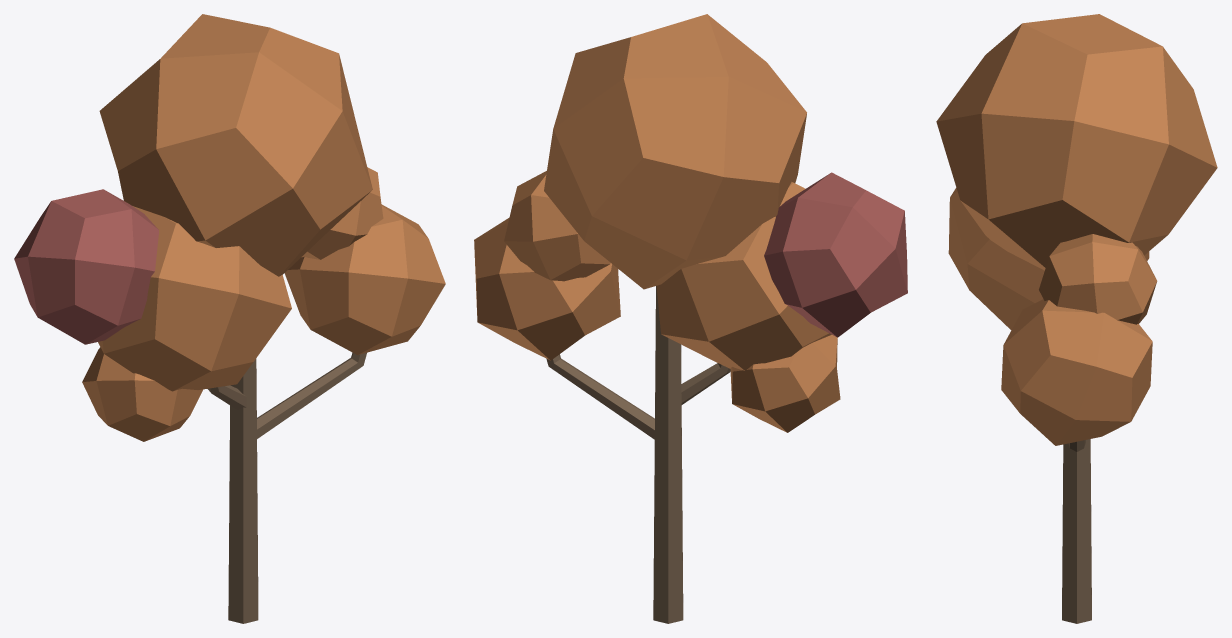
File: Tree_01.fbx
3 renders of one model, left to right at view 1: azimuth 30°, elevation 25°; view 2: azimuth 150°, elevation 25°; view 3: azimuth 270°, elevation 25°, orthographic.
Visible parts, largest first — view 1: Tree_01; view 2: Tree_01; view 3: Tree_01.
Boxes of the visible parts, left/top/right/bottom form: Tree_01: left=14, top=14, right=445, bottom=623; Tree_01: left=474, top=14, right=907, bottom=623; Tree_01: left=936, top=14, right=1217, bottom=623.
Bounding box in the file's own units: 152 × 208 × 90.44.
